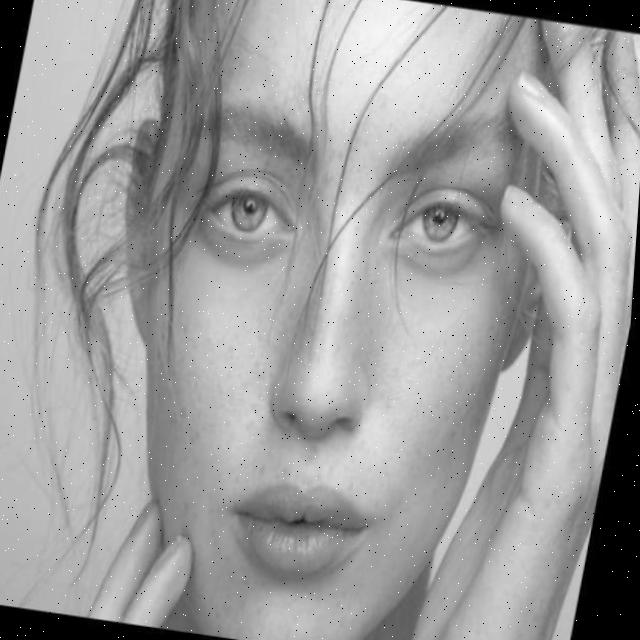puffy_eyes: (204, 224, 288, 269), (407, 244, 490, 281)
